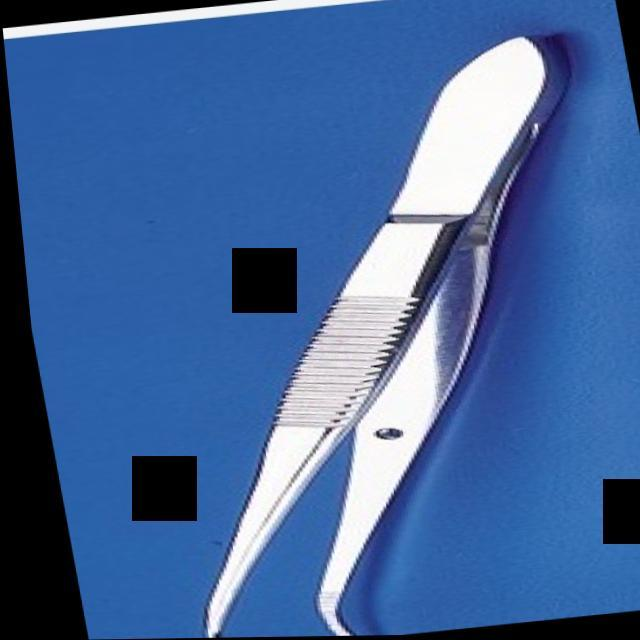Disscting Forceps -Plain-: (86, 23, 640, 639)
